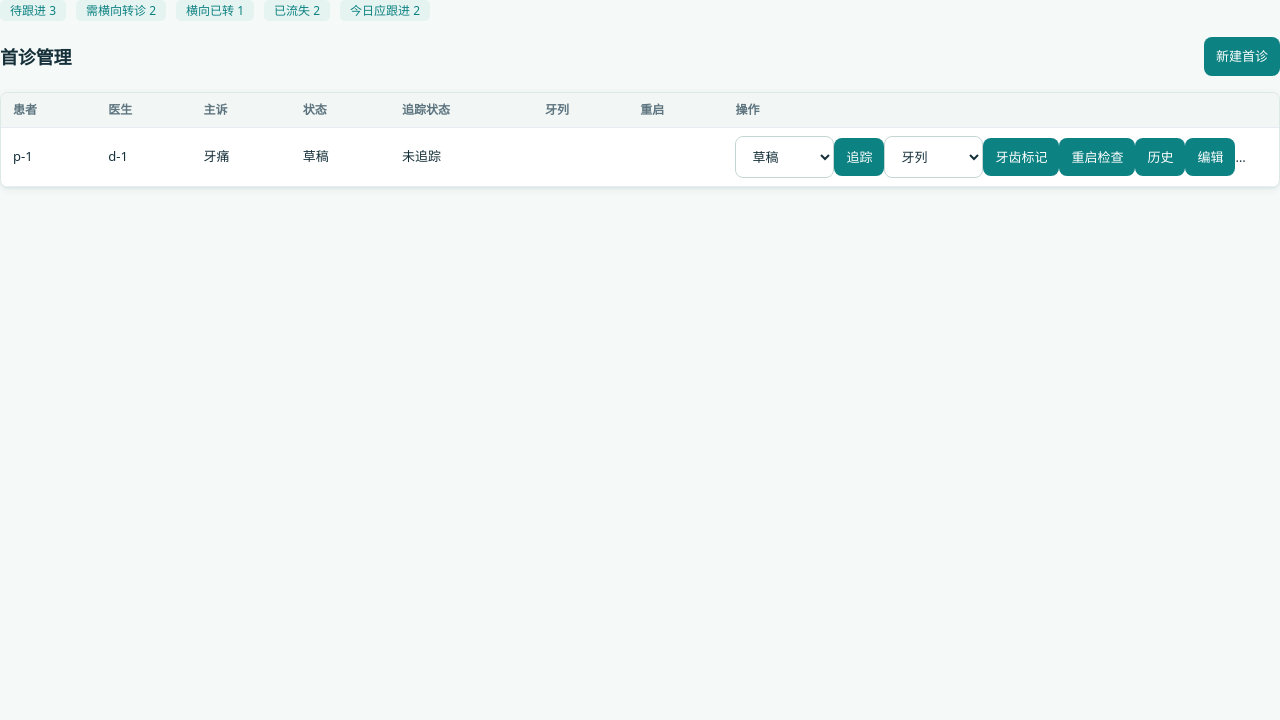
Scenario: FirstExamsPage › marks a chief tooth through the teeth dialog
Expected: the text "牙痛" is shown, [192,127,291,186]
Click the button "牙齿标记": (1021, 157) [983,138,1059,176]
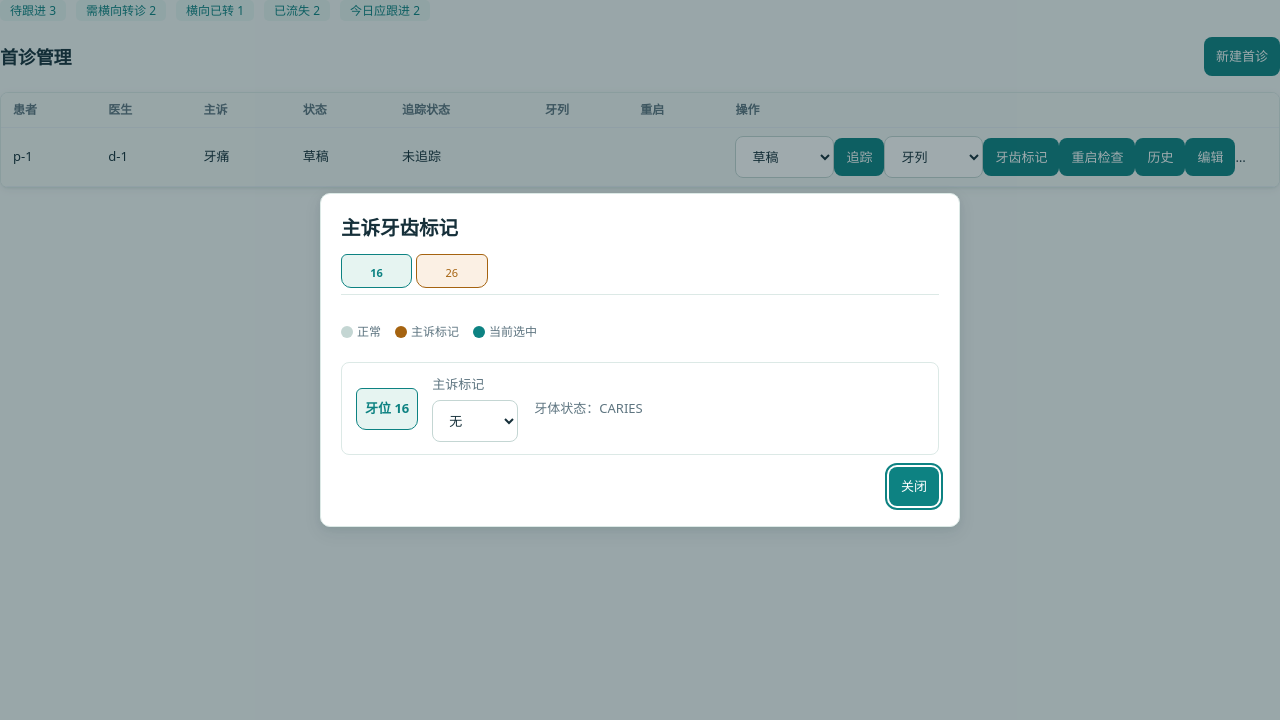
Expected: the button "16" is shown, [341,254,412,288]
Select "横向做" in the dropdown named "牙齿 16 主诉标记": (475, 421) [432,400,518,442]
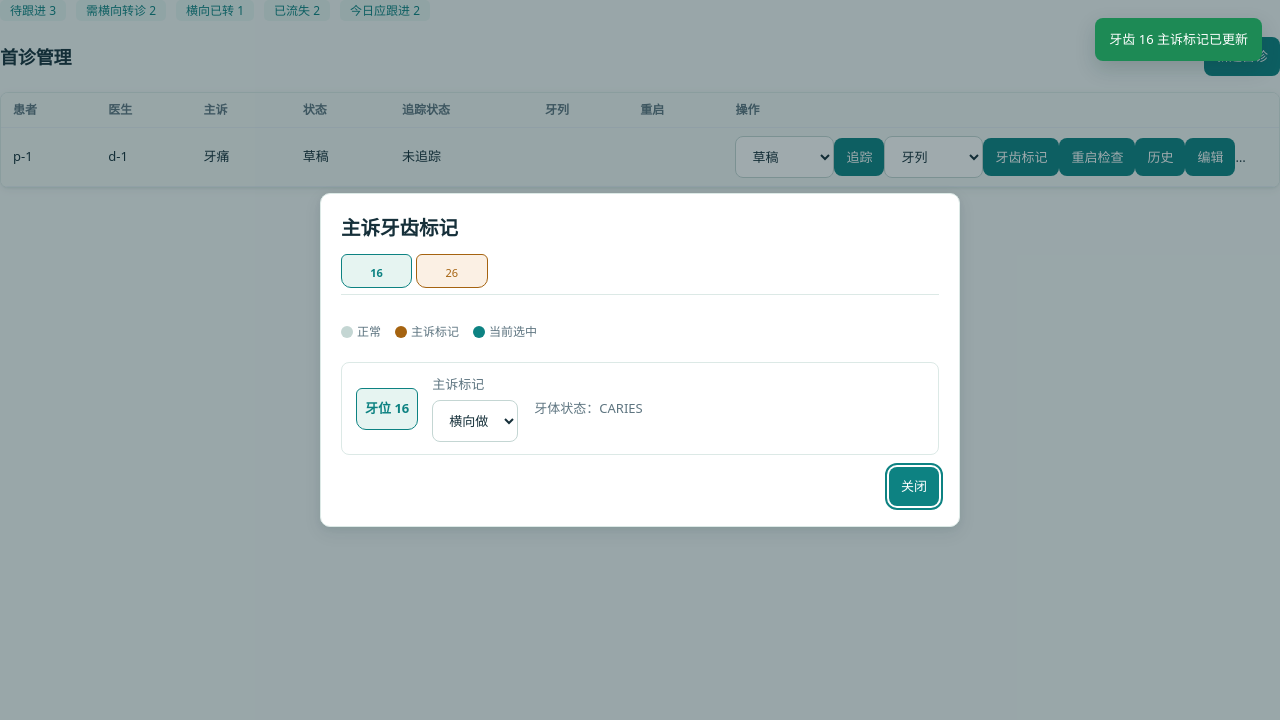
Expected: the text "牙齿 16 主诉标记已更新" is shown, [1095,18,1262,61]
